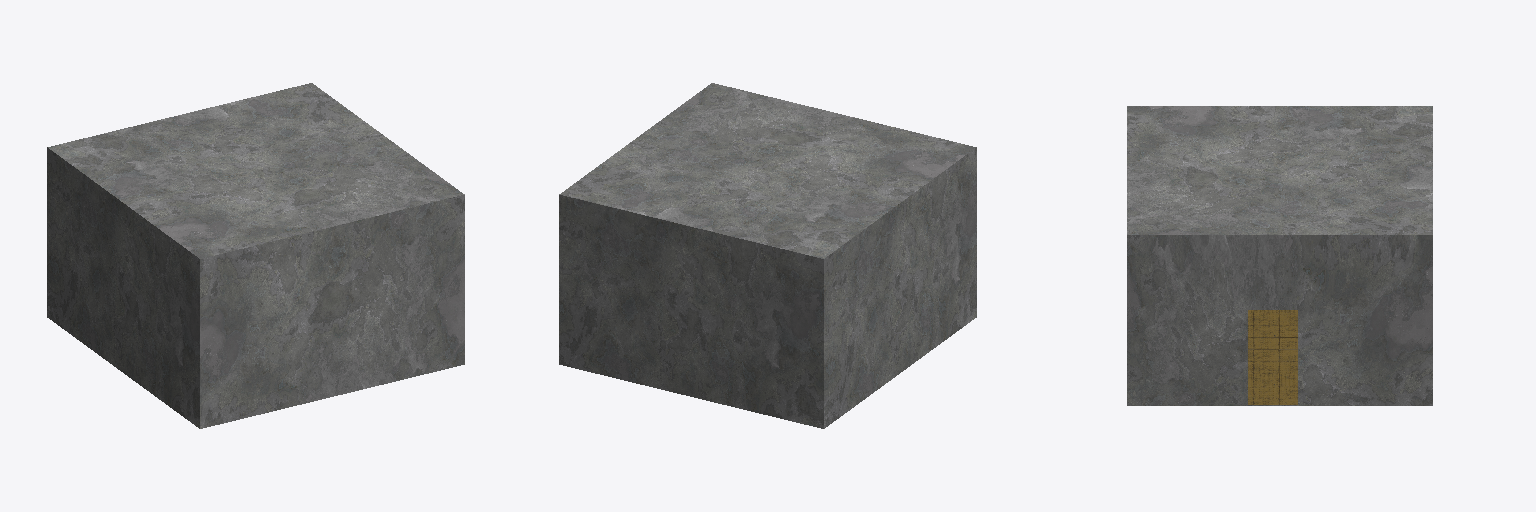
The picture shows the model from 3 angles: view 1: azimuth 30°, elevation 25°; view 2: azimuth 150°, elevation 25°; view 3: azimuth 270°, elevation 25°; orthographic projection.
Visible parts, largest first — view 1: Cube.001_Cube.003; view 2: Cube.001_Cube.003; view 3: Cube.001_Cube.003.
Boxes of the visible parts, x1=… form: Cube.001_Cube.003: x1=47, y1=83, x2=464, y2=428; Cube.001_Cube.003: x1=559, y1=83, x2=976, y2=428; Cube.001_Cube.003: x1=1127, y1=106, x2=1432, y2=405.
Size of the model in its own units: 5.73 by 3.52 by 5.73.
Materials: 4 (4 with a texture image).